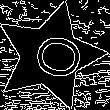O_W: (19, 28, 82, 83)
